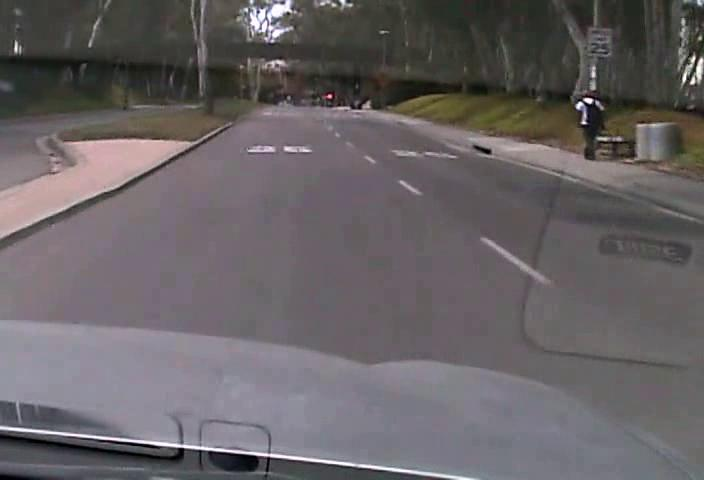speedLimit25: (586, 26, 613, 57)
